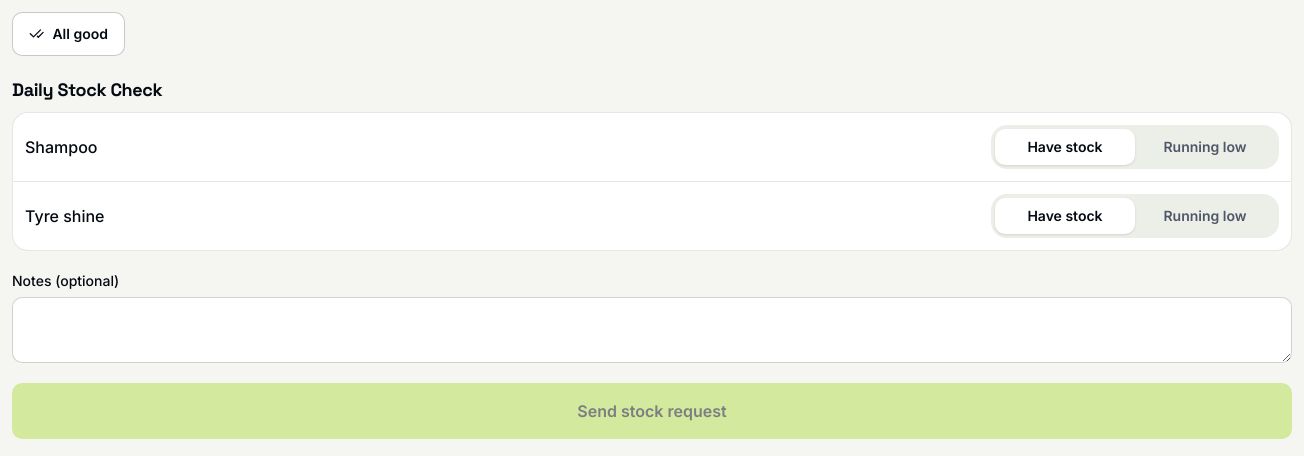
Test case: ChecklistForm › request mode shows only stock and needs a low item
Expected: the button "Send stock request" is disabled, x1=12 y1=383 x2=1292 y2=439
What coordinates should you click on to do the following:
click the radio button labelled "Running low" in the row of "Tyre shine"
I would click on:
 (1205, 216)
Its box is x1=1135 y1=198 x2=1275 y2=234.
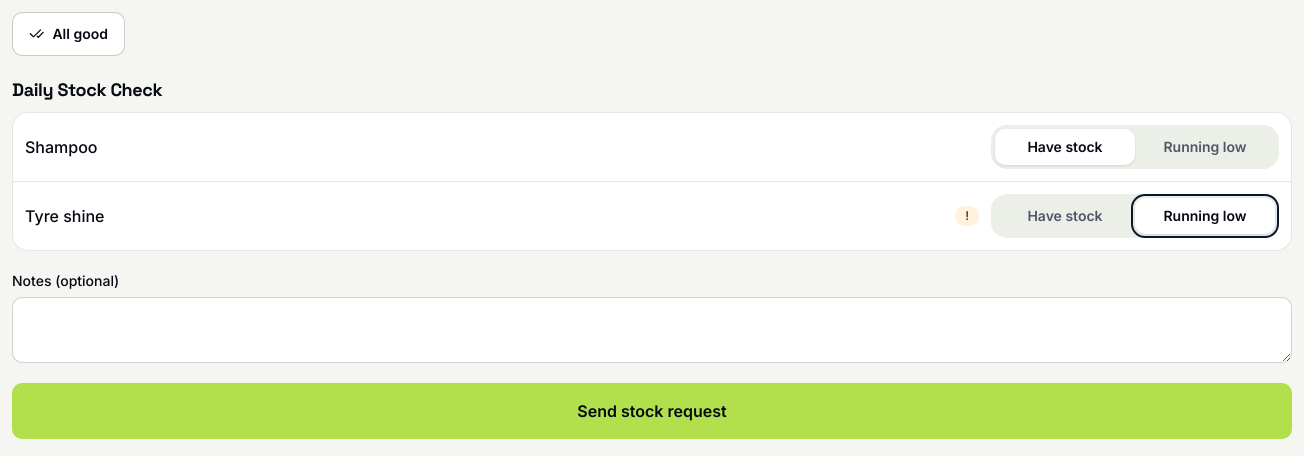
Expected: the button "Send stock request" is enabled, x1=12 y1=383 x2=1292 y2=439
